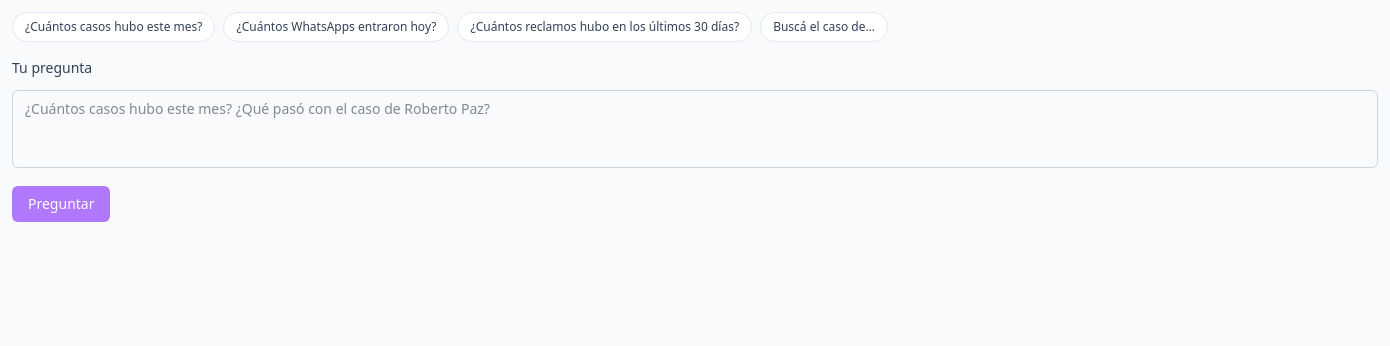
Test: CajaDelAsistente › con más de un caso, no muestra el aviso de resumen de IA
Click the button "¿Cuántos casos hubo este mes?" at (114, 27), box [12,12,216,42]
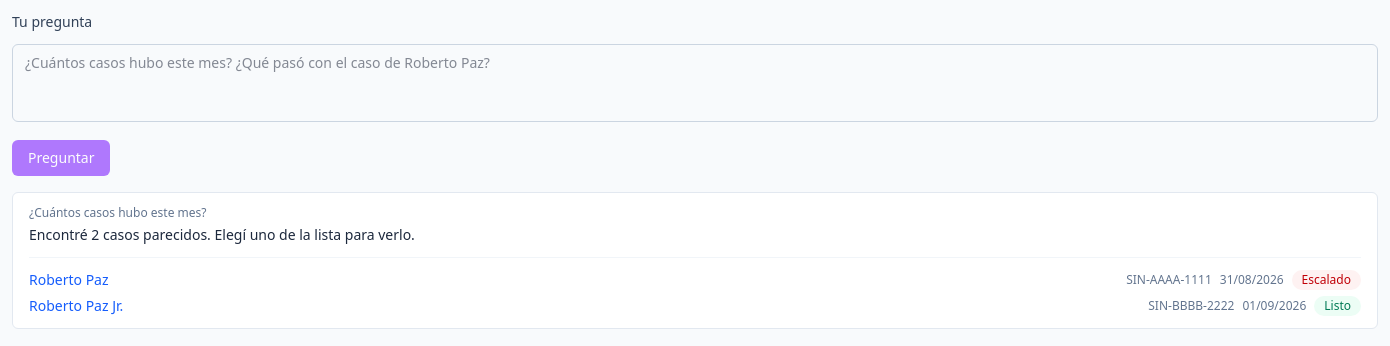
Result: the link "Roberto Paz Jr." is shown at [29,296,123,316]
